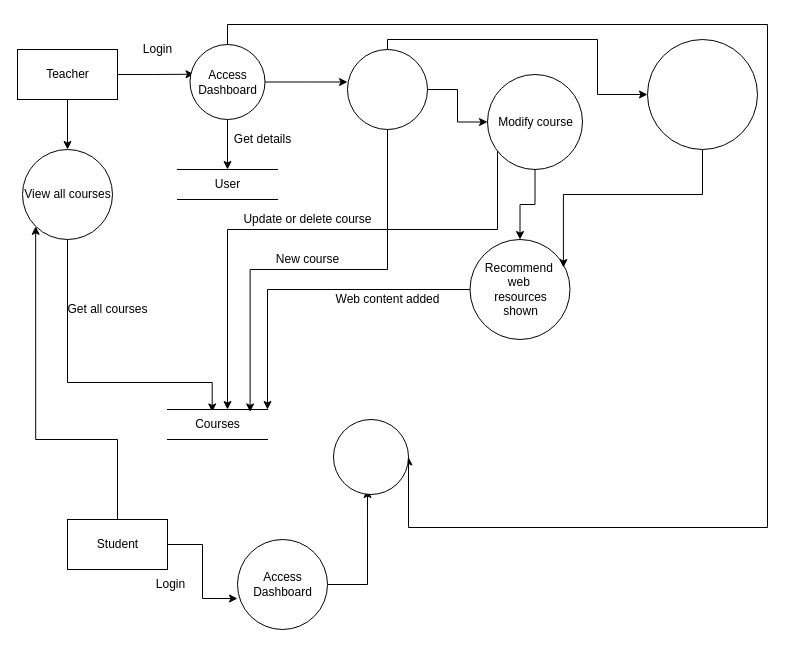
This 793x647 diagram has some shape labels left out. Each missing label, with the centre of its shape:
Create course: the point at 387,89
Get web resources from keywords: the point at 702,94
Learn any course: the point at 370,456
